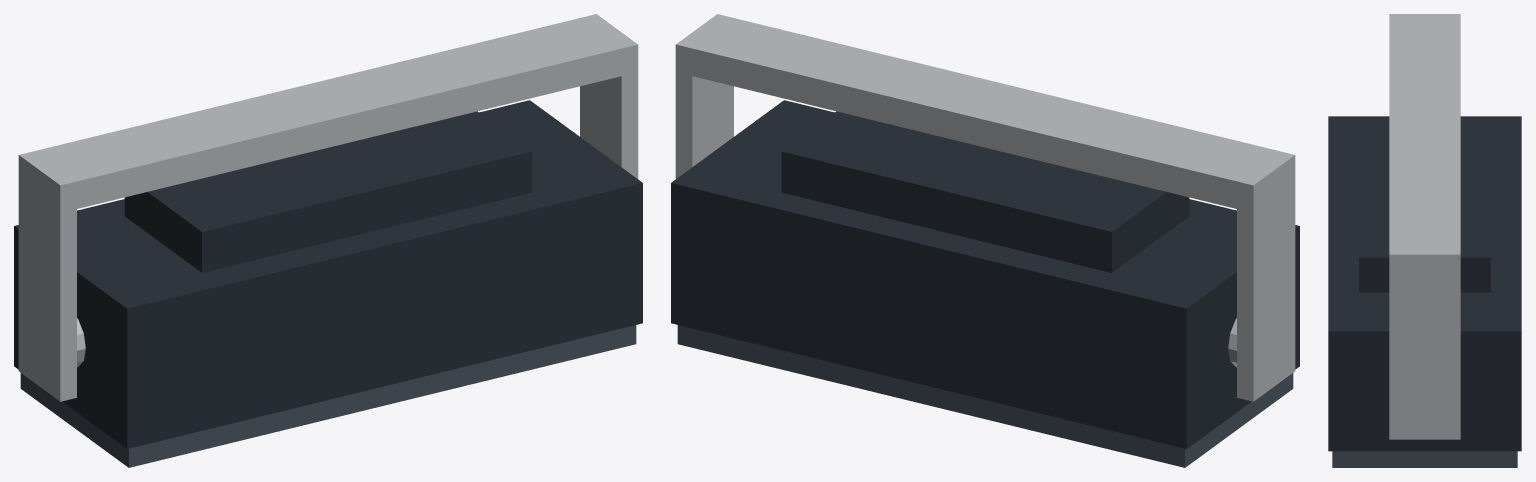
The model's file is led-strobe-no-clamp.glb.
3 renders of one model, left to right at view 1: azimuth 30°, elevation 25°; view 2: azimuth 150°, elevation 25°; view 3: azimuth 270°, elevation 25°, orthographic. The views are drawn at different scales.
Parts seen in each view (by area): view 1: body, hanging-frame, driver-housing, lens-ring; view 2: body, hanging-frame, driver-housing, lens-ring; view 3: body, hanging-frame, driver-housing, lens-ring.
Part boxes in pixels (<box>): body: <box>14,100,642,448</box>; hanging-frame: <box>18,14,638,401</box>; driver-housing: <box>124,111,532,272</box>; lens-ring: <box>20,325,636,467</box>; body: <box>671,100,1299,448</box>; hanging-frame: <box>675,14,1295,401</box>; driver-housing: <box>781,111,1189,272</box>; lens-ring: <box>677,325,1293,467</box>; body: <box>1328,116,1521,451</box>; hanging-frame: <box>1389,14,1460,439</box>; driver-housing: <box>1359,120,1490,292</box>; lens-ring: <box>1332,451,1517,467</box>.
Size of the model in its own units: 0.56 by 0.247 by 0.19.
